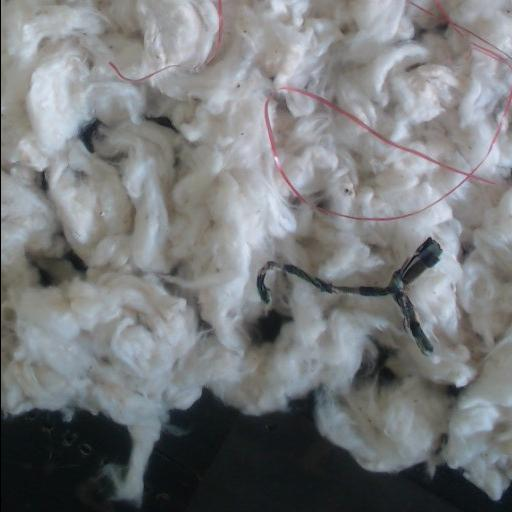cloth: (257, 238, 440, 355)
cotton: (1, 0, 512, 503)
thread: (275, 86, 500, 220), (264, 103, 304, 200)
